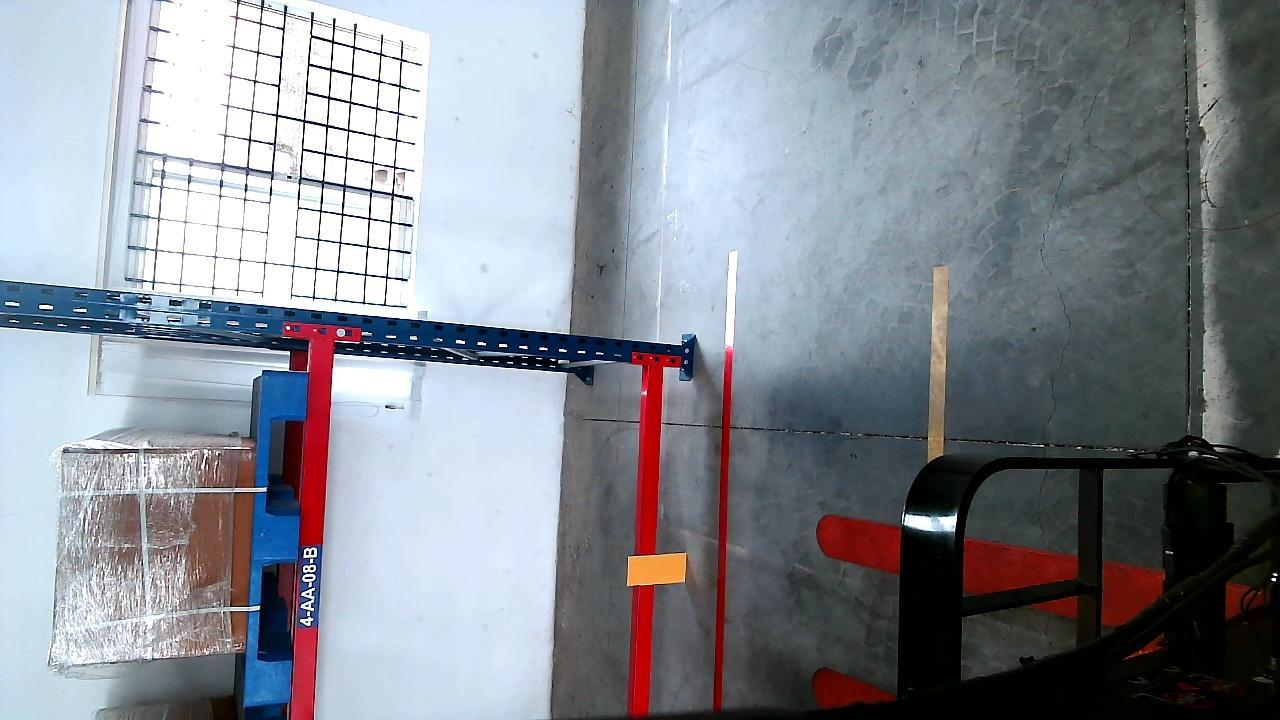red_line: (714, 253, 740, 710)
yellow_line: (926, 261, 946, 462)
